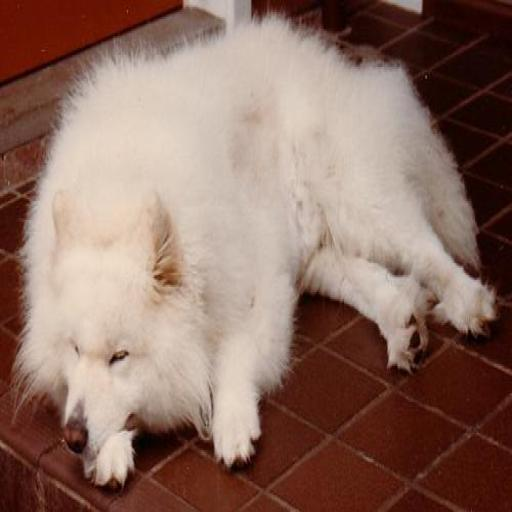dog_face: (36, 195, 202, 465)
